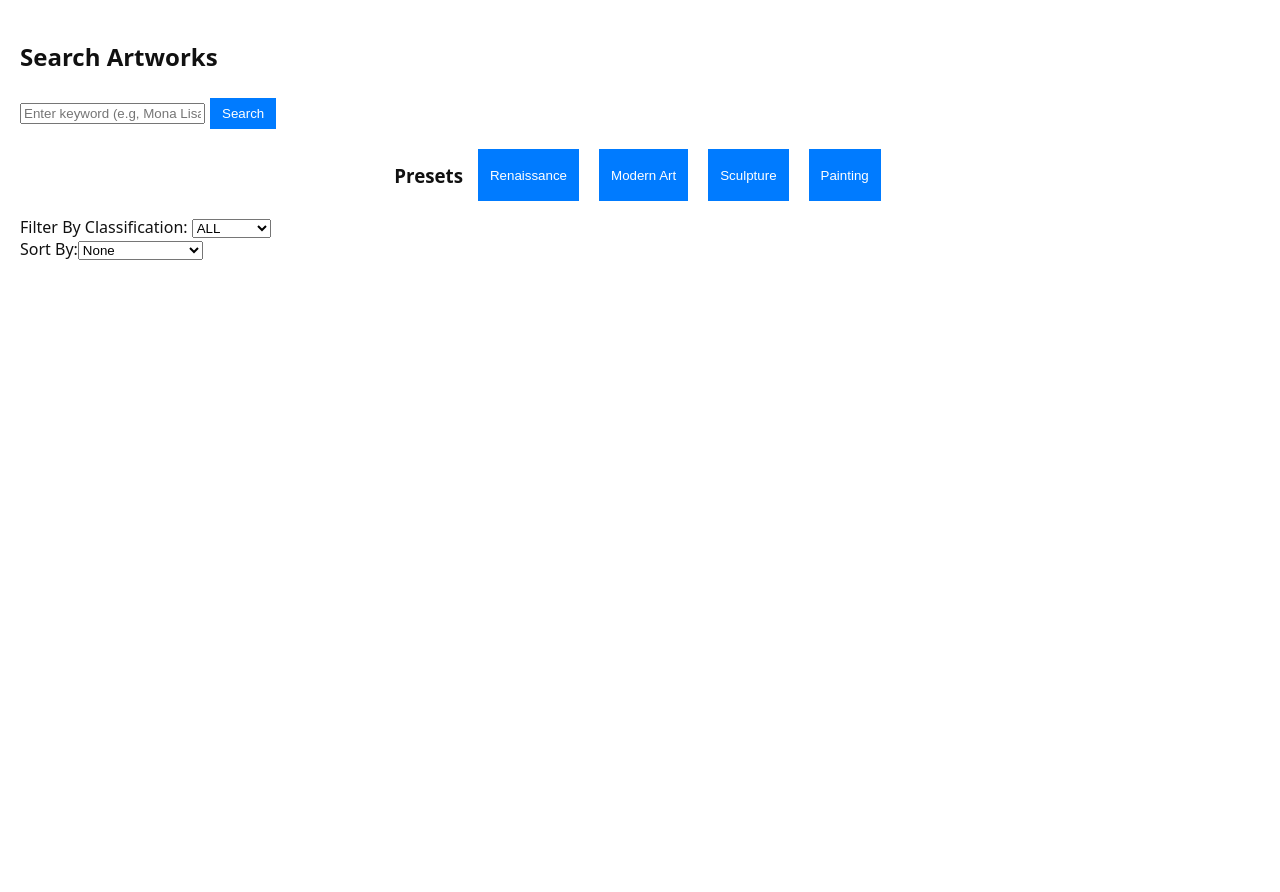
SearchComponent + ExhibitionView integration tests › fetches and displays artworks on search and supports filtering
Type "flowers" into the field with placeholder "Enter keyword (e.g, Mona Lisa)".
click(112, 113); type("flowers")  # box x1=20 y1=103 x2=205 y2=124
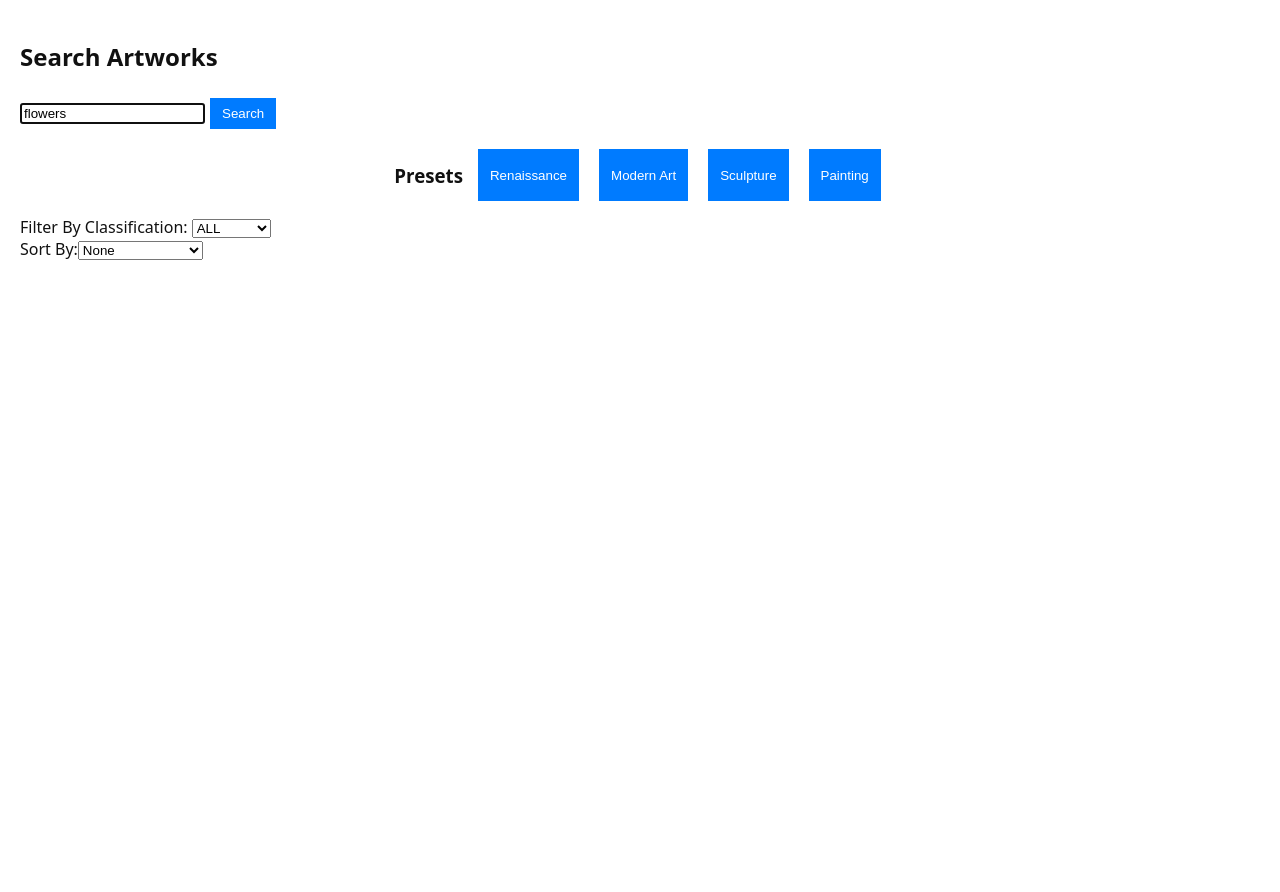
Click the button "Search".
click(243, 113)  # box x1=210 y1=98 x2=276 y2=129
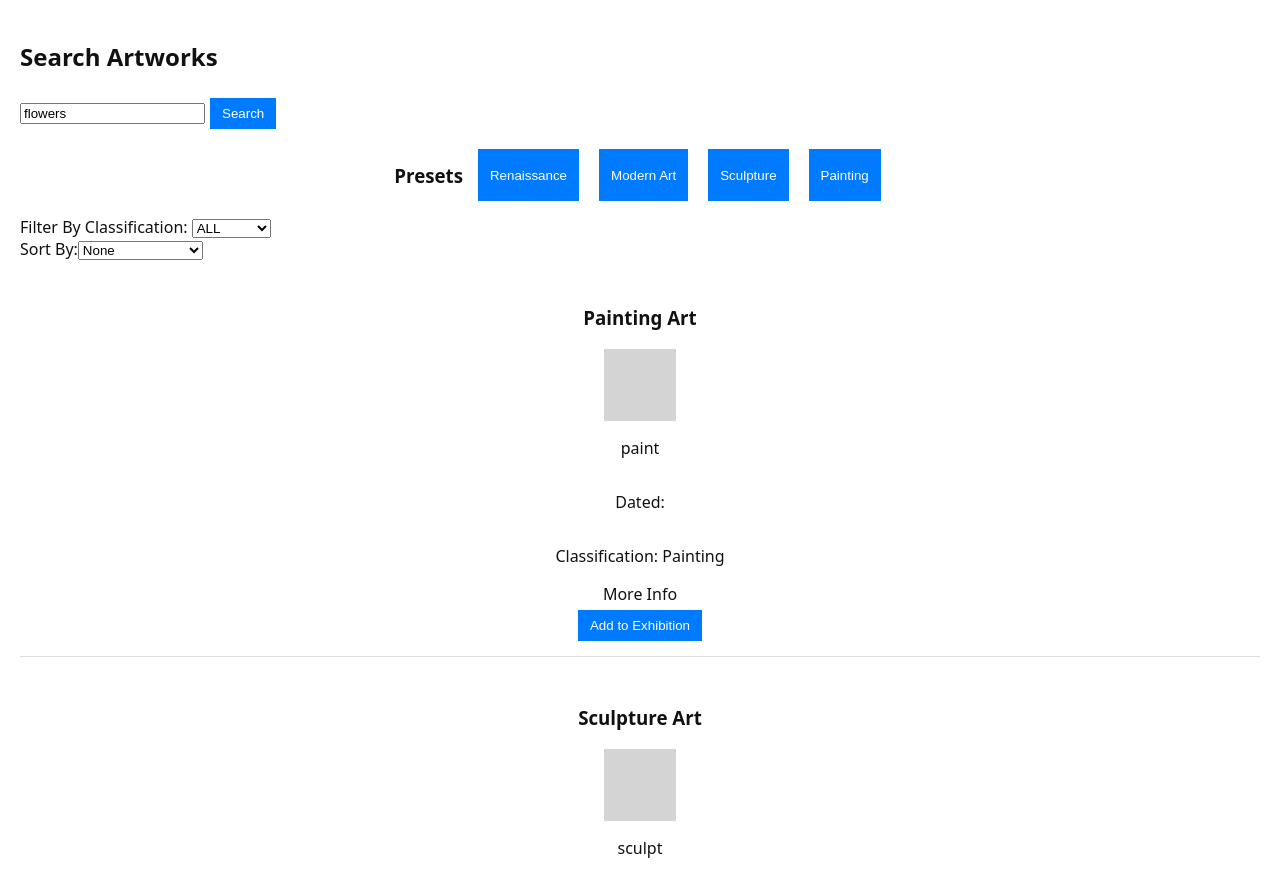
Result: the heading "Painting Art" is shown at x1=583 y1=305 x2=697 y2=330
Result: the heading "Sculpture Art" is shown at x1=578 y1=705 x2=702 y2=730
Select "Painting" in the dropdown labelled "Filter By Classification:" at x=231, y=229, box x1=192 y1=219 x2=271 y2=238
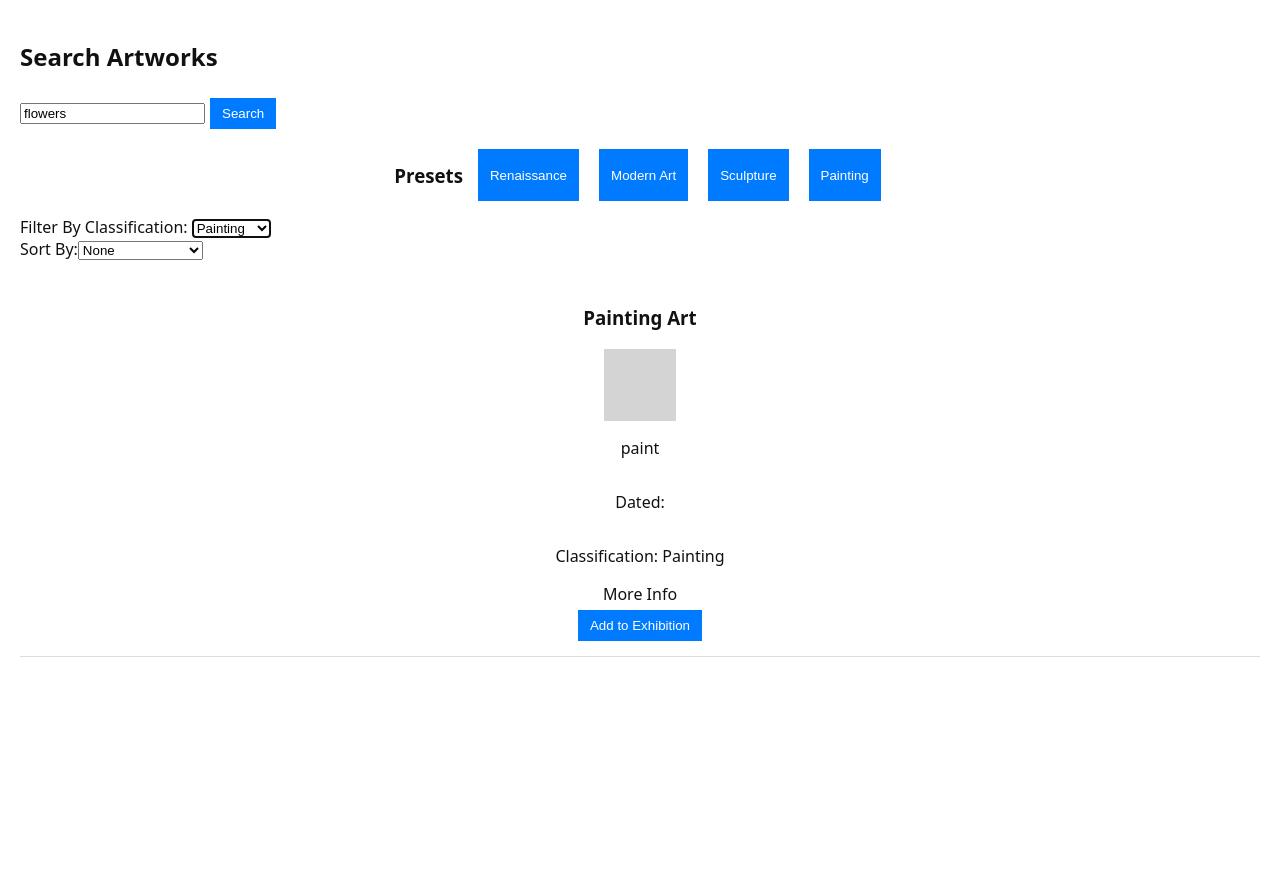
Result: the heading "Painting Art" is shown at x1=583 y1=305 x2=697 y2=330
Result: the heading "Sculpture Art" is gone
